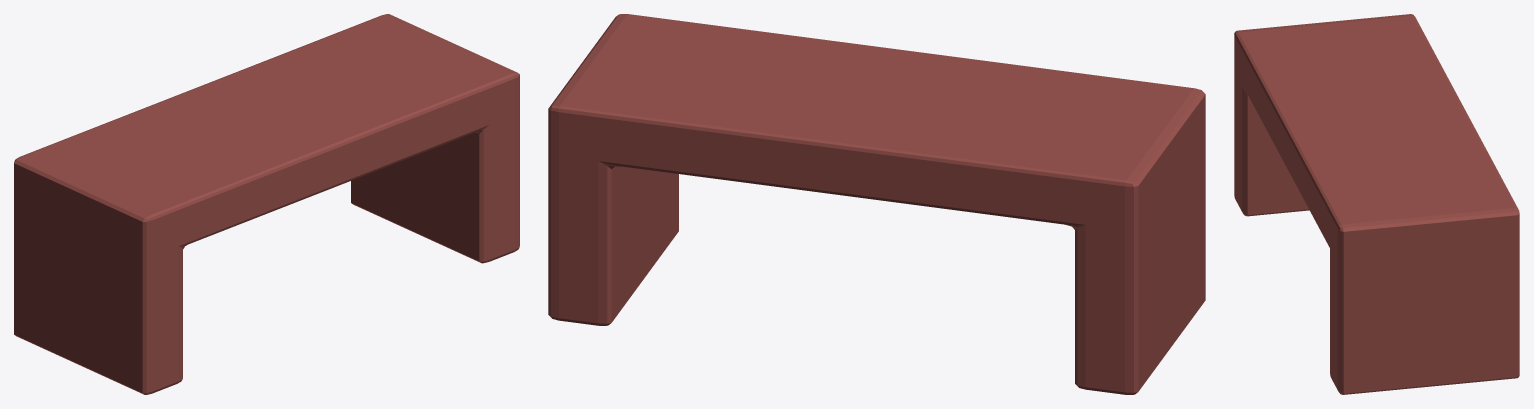
Rendered from bench.fbx.
3 renders of one model, left to right at view 1: azimuth 30°, elevation 25°; view 2: azimuth 150°, elevation 25°; view 3: azimuth 270°, elevation 25°, orthographic. The views are drawn at different scales.
Parts seen in each view (by area): view 1: Cube.030; view 2: Cube.030; view 3: Cube.030.
Boxes of the visible parts, left/top/right/bottom form: Cube.030: left=14, top=14, right=519, bottom=394; Cube.030: left=548, top=14, right=1205, bottom=394; Cube.030: left=1234, top=14, right=1519, bottom=394.
Bounding box in the file's own units: 978 × 355 × 544.
